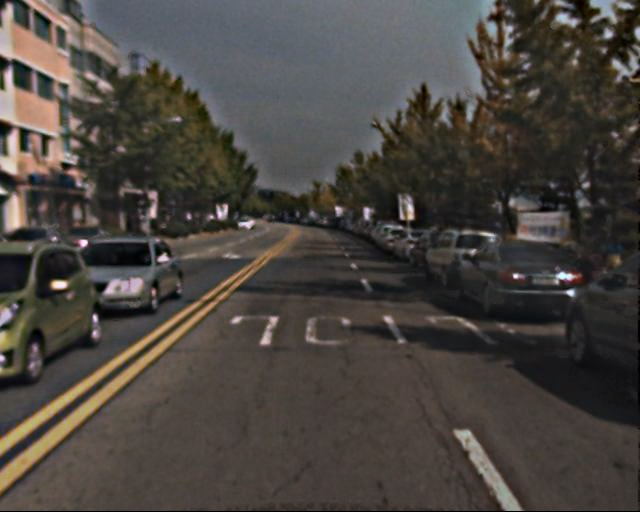person: (593, 228, 623, 294)
